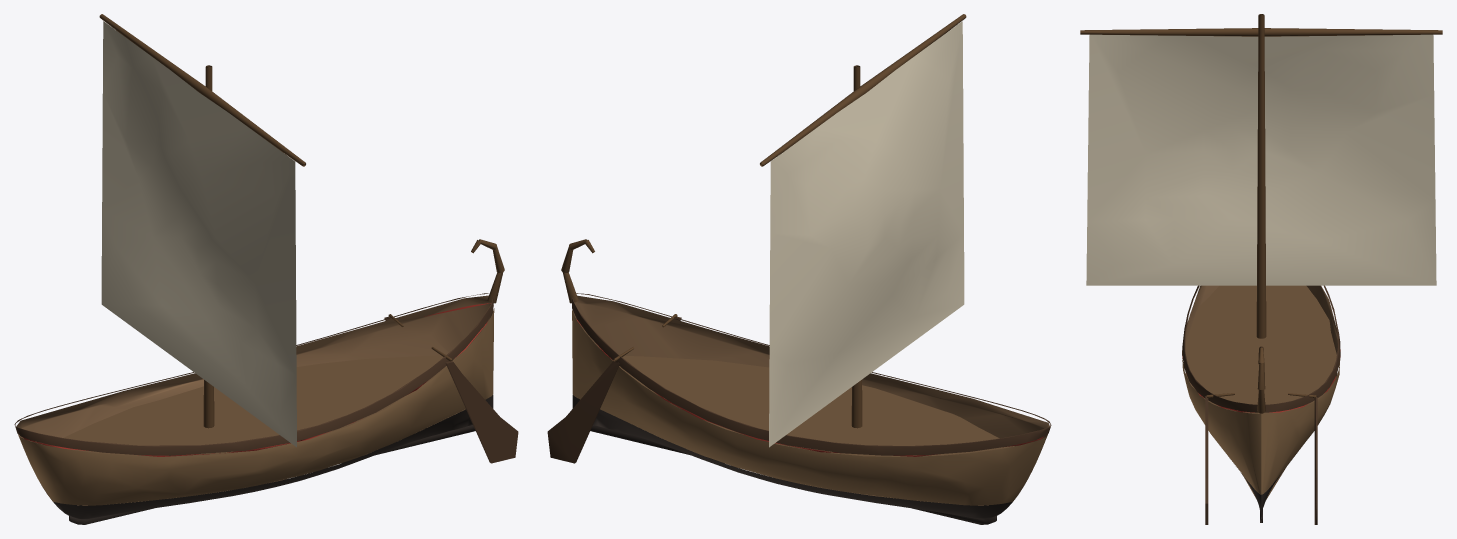
The model's file is laurons.glb.
3 views of the same model, side by side, from view 1: azimuth 30°, elevation 25°; view 2: azimuth 150°, elevation 25°; view 3: azimuth 270°, elevation 25° (orthographic). The views are drawn at different scales.
Parts seen in each view (by area): view 1: Vela, lite_static, Leme, Verga; view 2: lite_static, Vela, Verga; view 3: Vela, lite_static, Verga, Leme.
Part boxes in pixels (x1=…): Vela: x1=101, y1=21, x2=296, y2=447; lite_static: x1=14, y1=65, x2=504, y2=524; Leme: x1=445, y1=361, x2=518, y2=463; Verga: x1=99, y1=14, x2=305, y2=166; lite_static: x1=547, y1=65, x2=1051, y2=524; Vela: x1=769, y1=21, x2=964, y2=447; Verga: x1=760, y1=14, x2=966, y2=166; Vela: x1=1086, y1=34, x2=1436, y2=285; lite_static: x1=1182, y1=14, x2=1340, y2=524; Verga: x1=1080, y1=28, x2=1442, y2=36; Leme: x1=1205, y1=396, x2=1208, y2=524.
Size of the model in its own units: 16.16 by 13.75 by 11.6.
